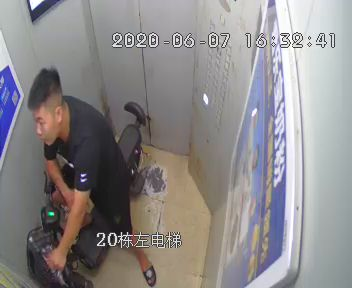Electric-bicycle: (25, 100, 144, 288)
